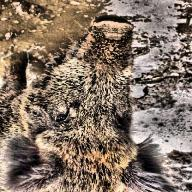boar: (0, 12, 184, 192)
